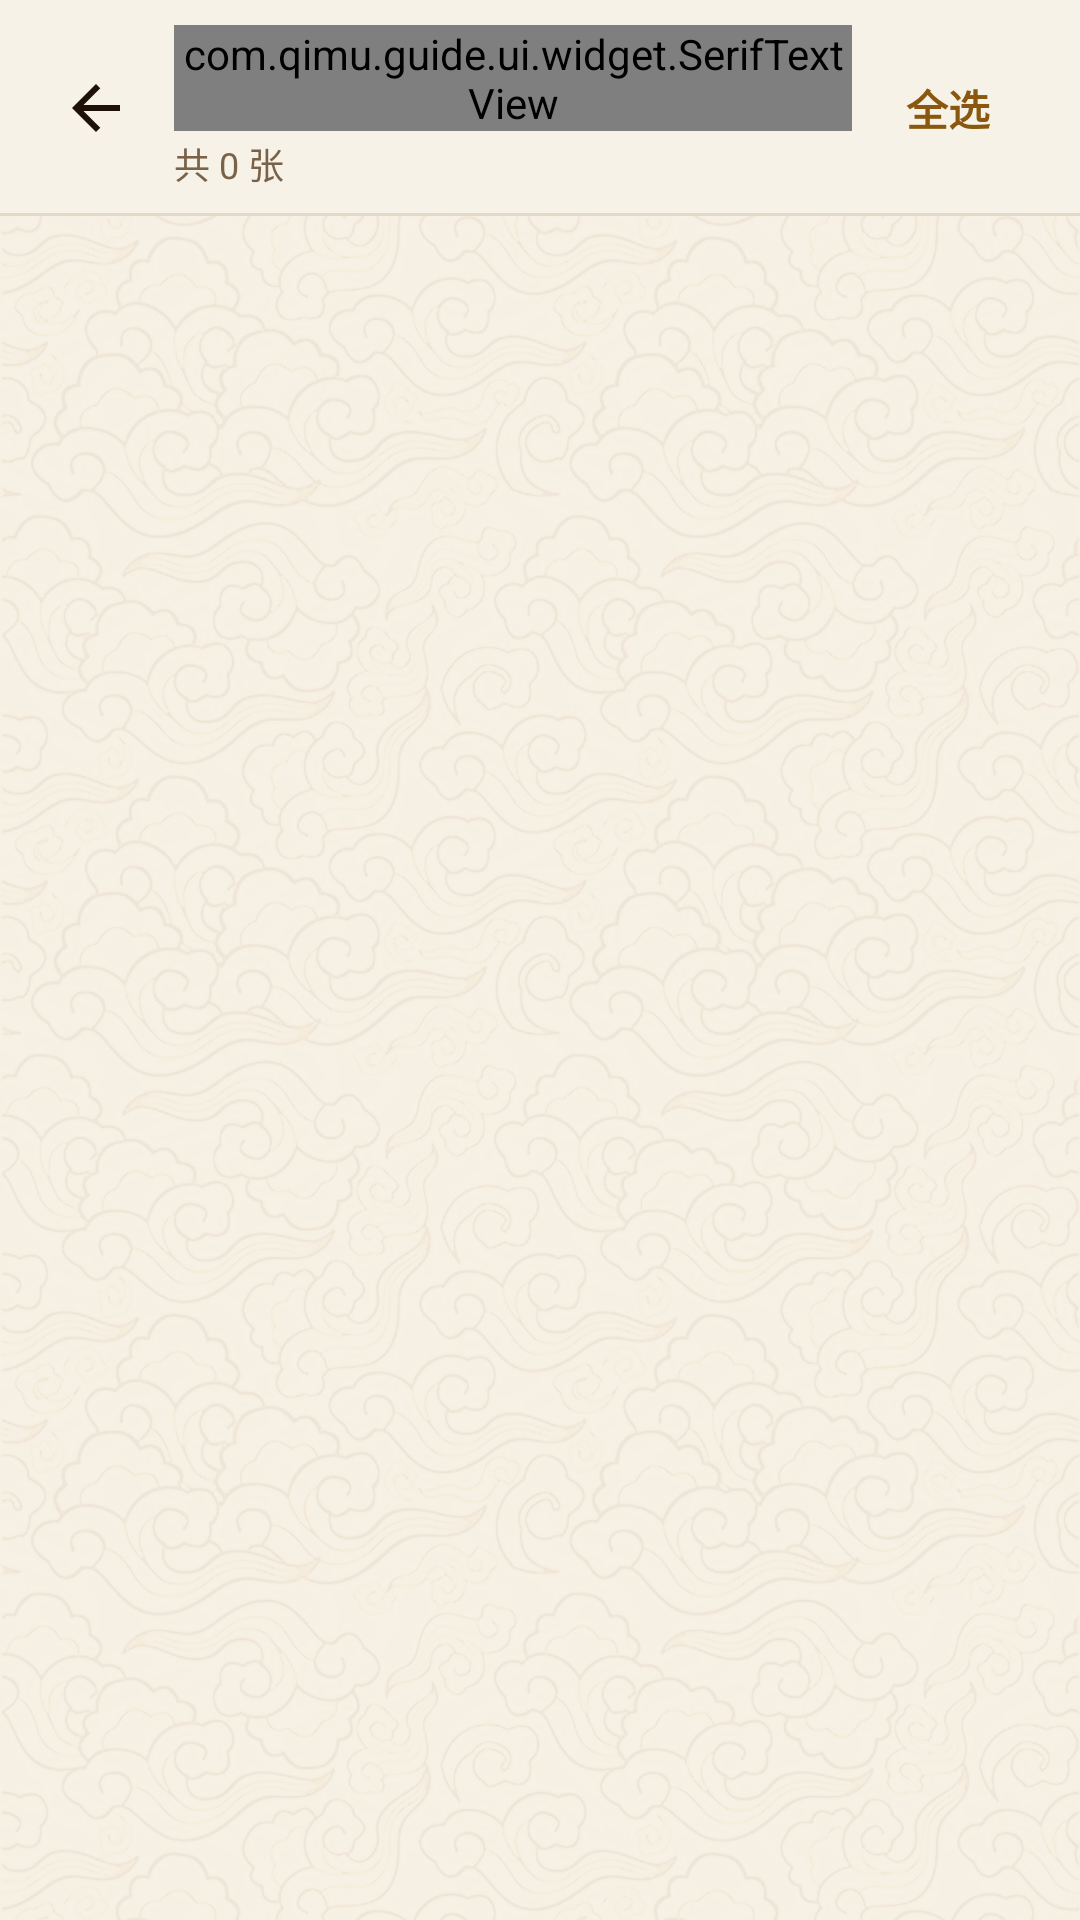

Locate icon controls on the screen. Image size 1080px×1920px, boxes as bbox=[x1, y1, x2, y2].
返回导出页: bbox=[72, 84, 120, 132]
